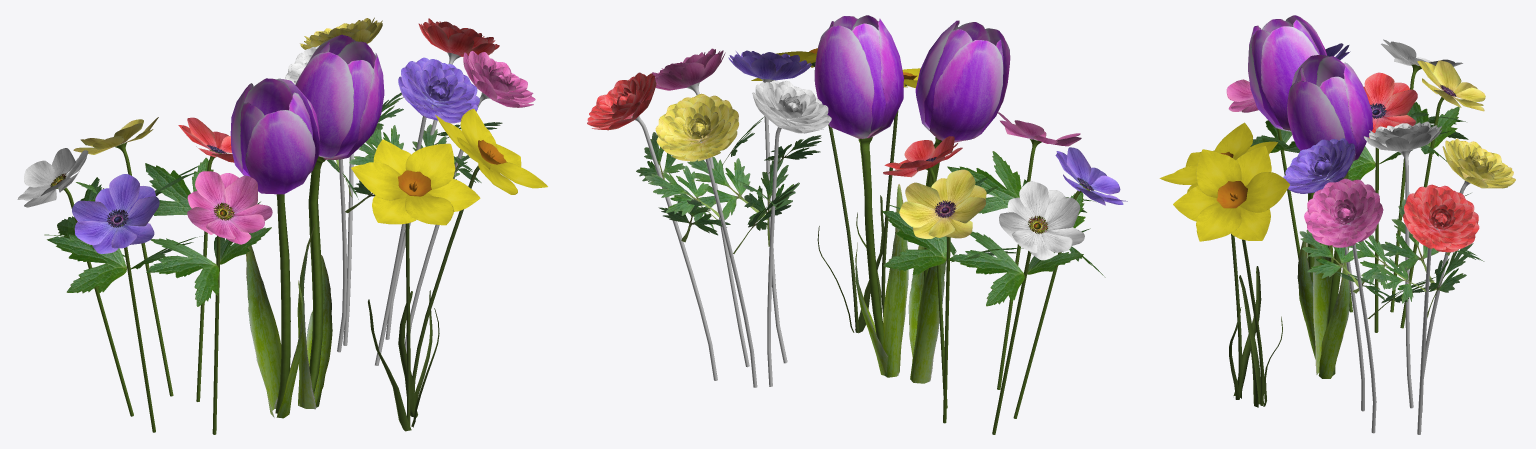
Rendered from tulip_1_1.fbx.
3 renders of one model, left to right at view 1: azimuth 30°, elevation 25°; view 2: azimuth 150°, elevation 25°; view 3: azimuth 270°, elevation 25°, orthographic. The views are drawn at different scales.
Visible parts, largest first — view 1: Cylinder.002, Cylinder.001, Cylinder.003, Cylinder.009, Cylinder.010, Cylinder.004, Cylinder, Cylinder.005, Cylinder.013, Cylinder.011, Cylinder.006, Cylinder.007 (+2 smaller); view 2: Cylinder.001, Cylinder.002, Cylinder.013, Cylinder.007, Cylinder.012, Cylinder.008, Cylinder.006, Cylinder, Cylinder.010, Cylinder.005, Cylinder.009, Cylinder.011 (+2 smaller); view 3: Cylinder.001, Cylinder.004, Cylinder.002, Cylinder.006, Cylinder.005, Cylinder.007, Cylinder, Cylinder.008, Cylinder.011, Cylinder.003, Cylinder.012, Cylinder.010 (+1 smaller).
Part boxes in pixels (x1,y1,x2,y2): Cylinder.002: (230,78,319,418); Cylinder.001: (295,34,384,409); Cylinder.003: (351,139,480,431); Cylinder.009: (47,174,204,432); Cylinder.010: (146,171,272,434); Cylinder.004: (398,108,547,417); Cylinder: (358,57,479,365); Cylinder.005: (404,51,535,353); Cylinder.013: (17,148,133,416); Cylinder.011: (145,117,234,401); Cylinder.006: (349,18,502,339); Cylinder.007: (300,17,403,345); Cylinder.001: (814,15,908,377); Cylinder.002: (908,20,1010,383); Cylinder.013: (948,181,1090,434); Cylinder.007: (645,93,798,387); Cylinder.012: (882,169,1023,423); Cylinder.008: (734,80,831,386); Cylinder.006: (587,72,730,380); Cylinder: (687,50,821,363); Cylinder.010: (947,112,1095,389); Cylinder.005: (652,48,764,367); Cylinder.009: (1013,147,1127,418); Cylinder.011: (883,136,997,408); Cylinder.001: (1287,55,1373,378); Cylinder.004: (1173,146,1289,407); Cylinder.002: (1248,15,1333,359); Cylinder.006: (1371,184,1479,434); Cylinder.005: (1299,178,1435,433); Cylinder.007: (1380,138,1515,412); Cylinder: (1283,138,1395,411); Cylinder.008: (1348,121,1470,408); Cylinder.011: (1348,72,1450,332); Cylinder.003: (1159,122,1277,399); Cylinder.012: (1400,60,1485,328); Cylinder.010: (1226,79,1300,259).
Size of the model in its own units: 3180 by 2149 by 2122.
